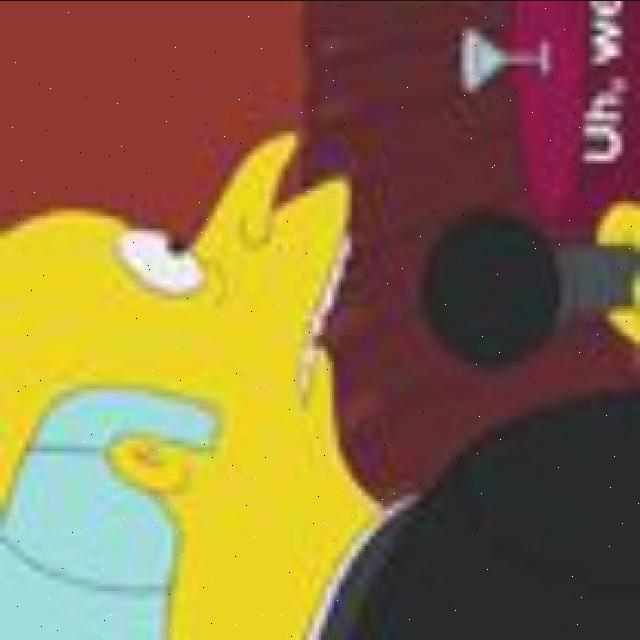Charles Montgomery Burns: (1, 126, 398, 638)
